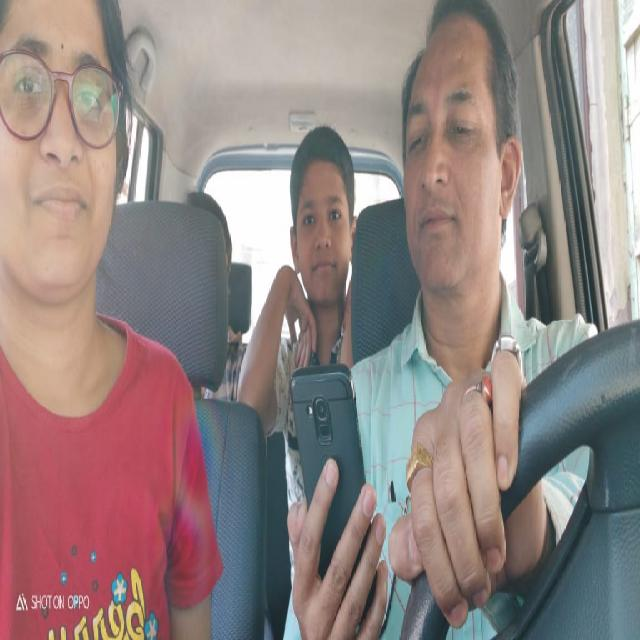mobile: (290, 354, 378, 602)
person: (0, 1, 139, 322), (400, 10, 527, 309), (287, 121, 361, 319)
